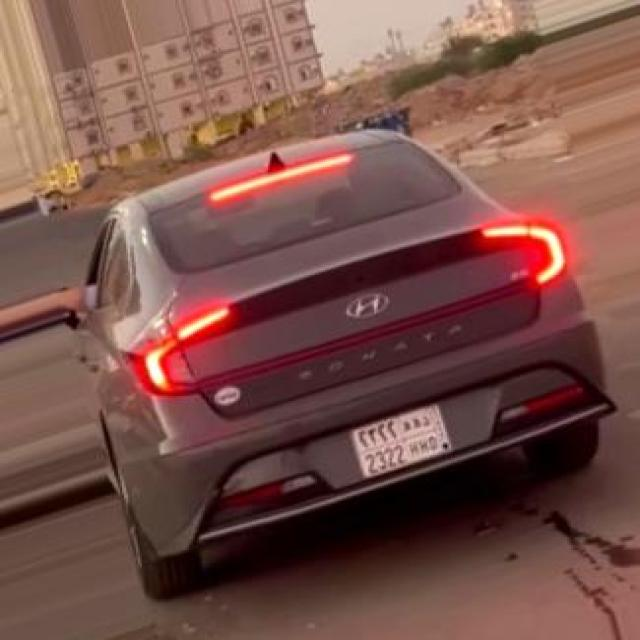Car-plate: (338, 395, 472, 485)
